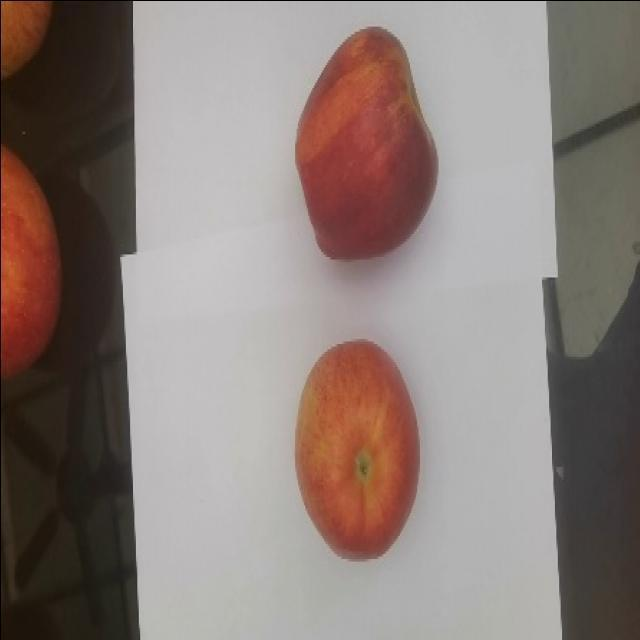Apple: (293, 25, 439, 260), (293, 338, 420, 560), (0, 144, 63, 380), (0, 0, 52, 80)
